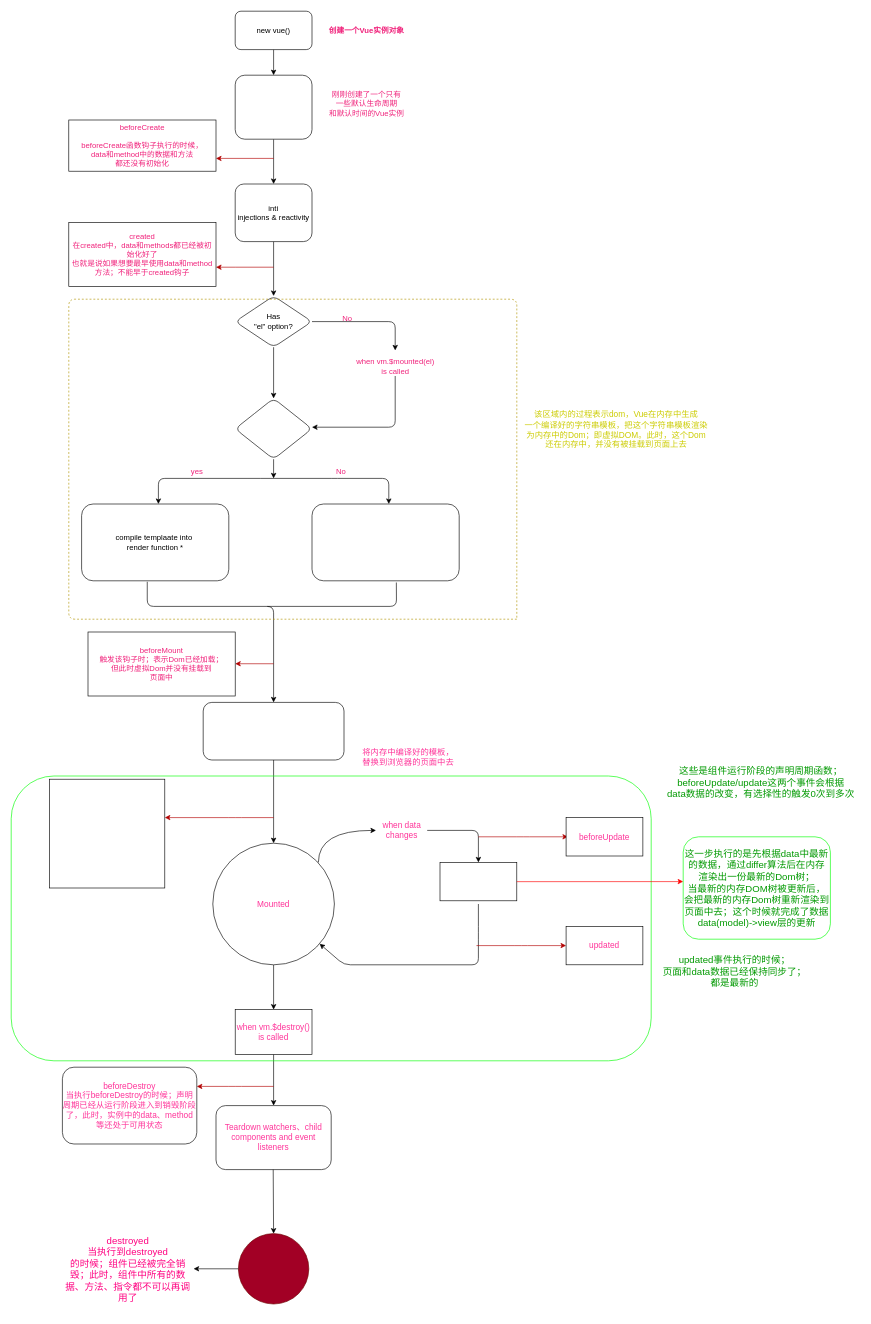
Some shapes in this 871 by 1324 pixel diagram are drawn without their labels. The box of each missing label's shape, as (x1, y1, x2, y2) in pixels:
compile el's outerHTML as template *: (311, 503, 459, 581)
Create vm.$el and replace "el" with it: (203, 702, 344, 760)
Destroyed: (238, 1233, 309, 1304)
Has "template" option?: (235, 398, 312, 459)
init events & Lifecycle: (235, 75, 312, 139)
mounted 触发该钩子时；就表示整个Vue实例已经初始化完毕并完成挂载；如果要通过js操作页面上的Dom，最早要在mounted中运行: (49, 779, 165, 888)
Virtual DOM re-render and patch: (439, 862, 517, 901)
